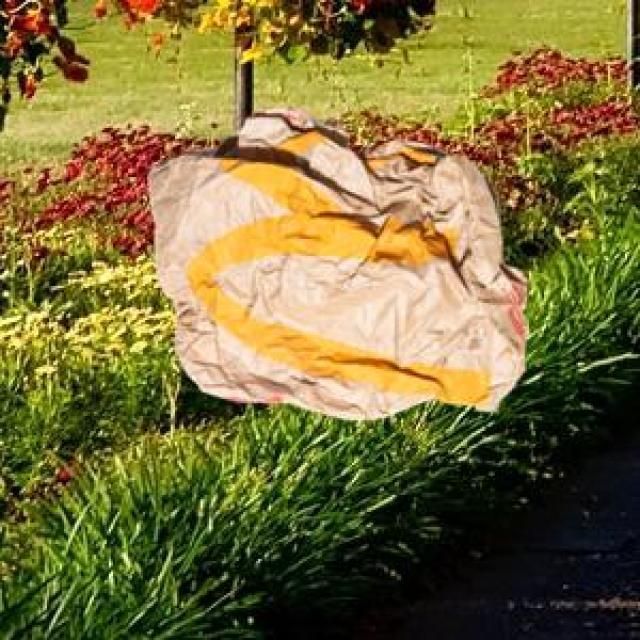paper: (145, 102, 525, 416)
